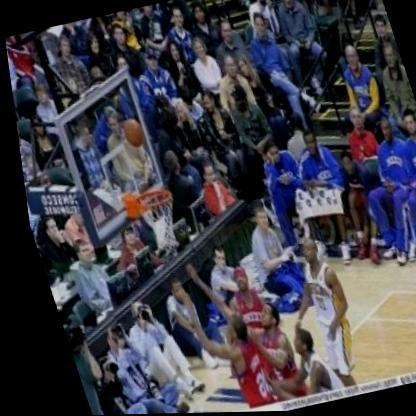basketball: (116, 116, 143, 148)
